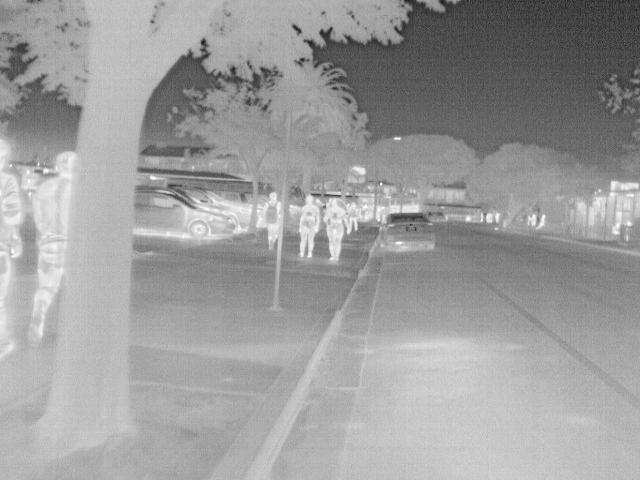car: (135, 190, 236, 237), (169, 184, 253, 232), (378, 212, 437, 255)
person: (30, 151, 76, 342), (1, 135, 30, 363), (319, 197, 349, 261), (296, 195, 322, 259), (263, 190, 282, 248), (348, 200, 362, 232), (534, 213, 547, 230), (611, 218, 624, 234), (531, 211, 539, 229)
